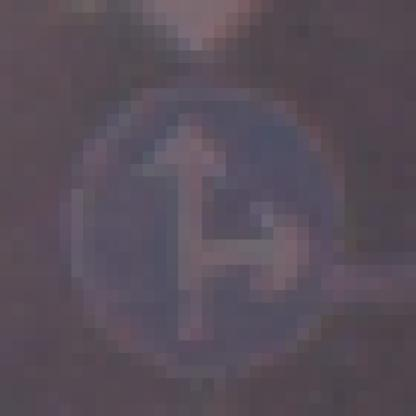Straight or Right: (60, 77, 346, 354)
